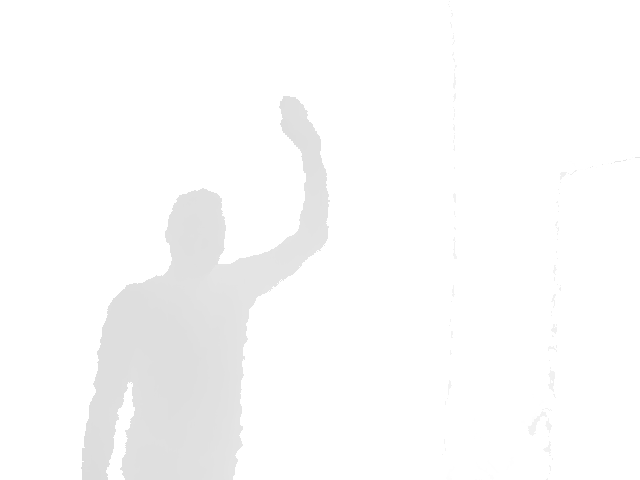hand: (277, 94, 324, 153)
head: (163, 188, 227, 279)
person: (80, 94, 331, 480)
